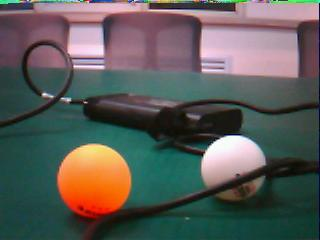oball: (58, 144, 132, 219)
